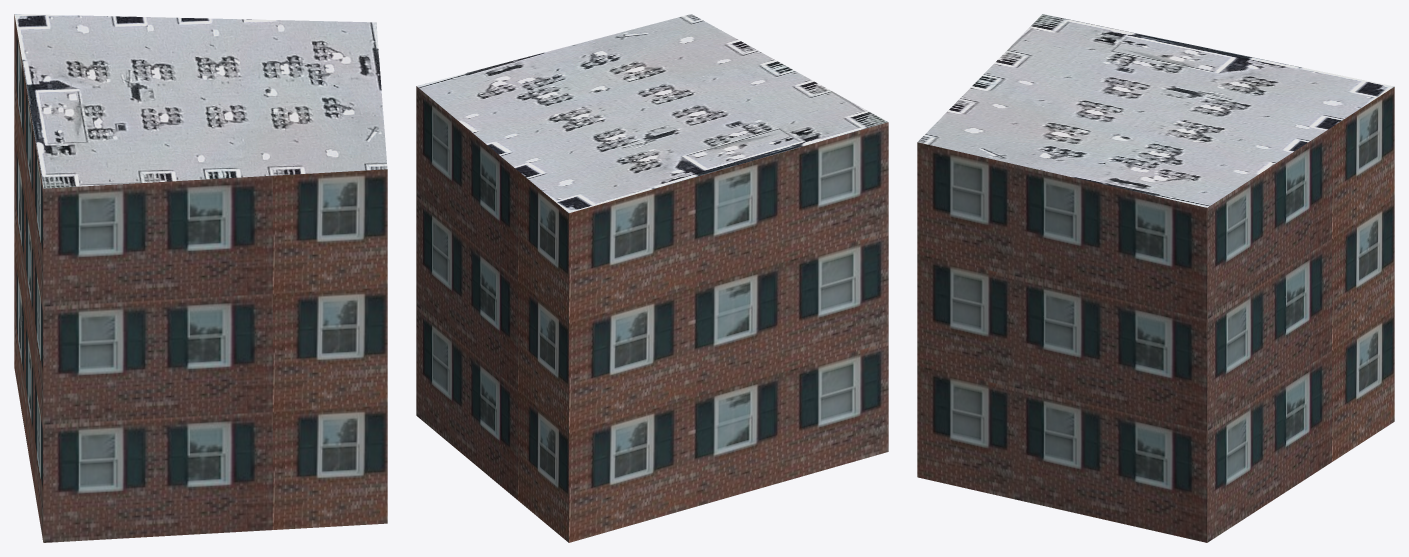
The model's file is ResTex__3050.fbx.
The picture shows the model from 3 angles, left to right: view 1: azimuth 30°, elevation 25°; view 2: azimuth 150°, elevation 25°; view 3: azimuth 270°, elevation 25°; orthographic projection. The views are drawn at different scales.
Parts seen in each view (by area): view 1: CityEngineMaterial_14_m, CityEngineMaterial_4_m; view 2: CityEngineMaterial_14_m, CityEngineMaterial_4_m; view 3: CityEngineMaterial_14_m, CityEngineMaterial_4_m.
Part boxes in pixels (x1,y1,x2,y2): CityEngineMaterial_14_m: [14, 14, 387, 542]; CityEngineMaterial_4_m: [14, 14, 387, 188]; CityEngineMaterial_14_m: [416, 86, 888, 542]; CityEngineMaterial_4_m: [417, 14, 887, 212]; CityEngineMaterial_14_m: [917, 87, 1394, 542]; CityEngineMaterial_4_m: [917, 14, 1394, 207].
Bounding box in the file's own units: 11.17 × 9 × 11.62.
Materials: 2 (2 with a texture image).
